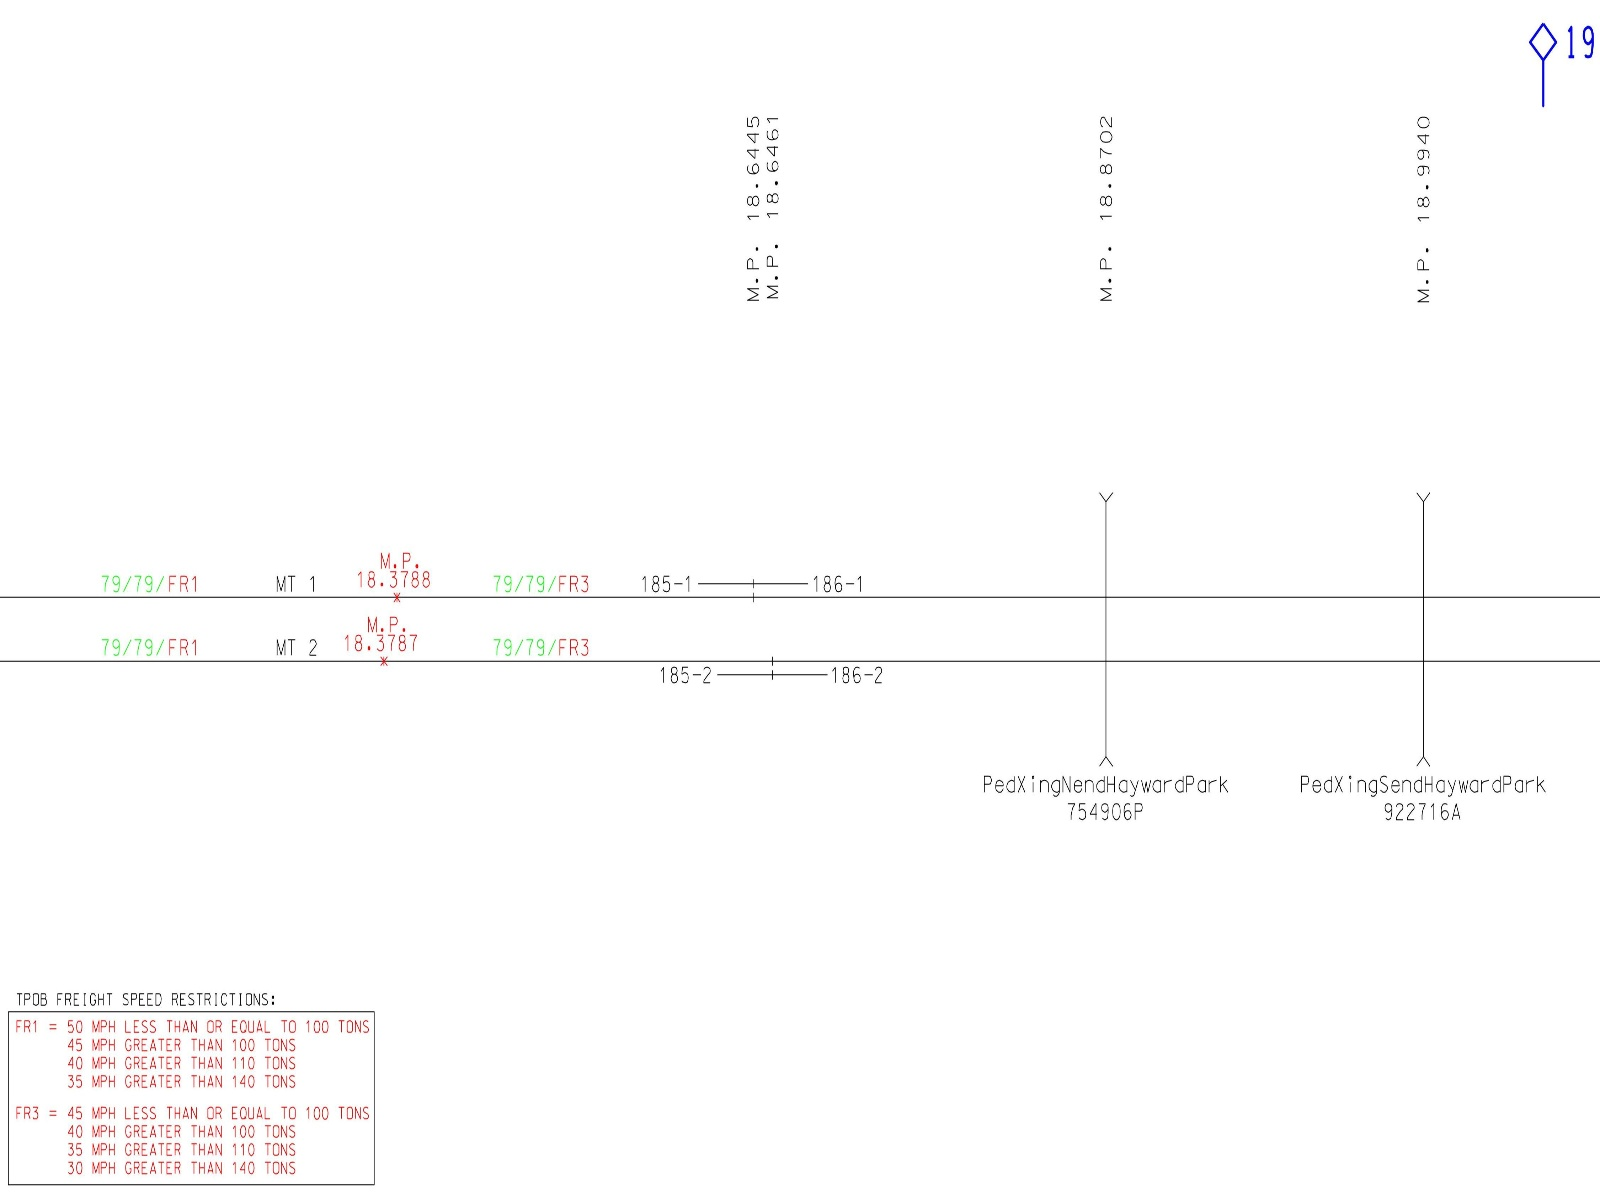crossover: (1065, 476, 1150, 774), (1385, 473, 1469, 771)
crossoverLabel: (973, 771, 1254, 843), (1277, 768, 1558, 839)
milepost: (727, 101, 810, 321), (1381, 101, 1464, 321), (1065, 96, 1146, 316)
